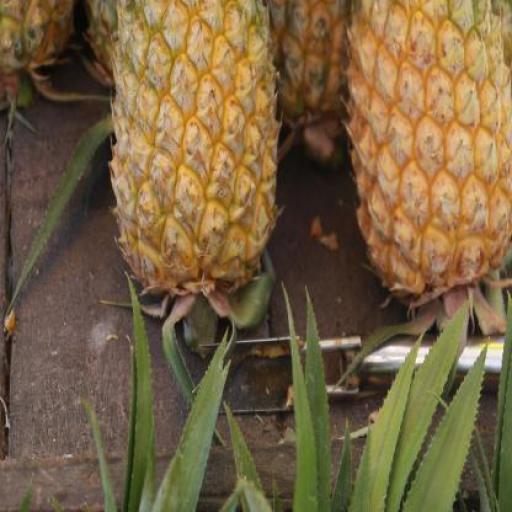Pineapple - v8 v1: (102, 0, 286, 293), (339, 0, 510, 295)
